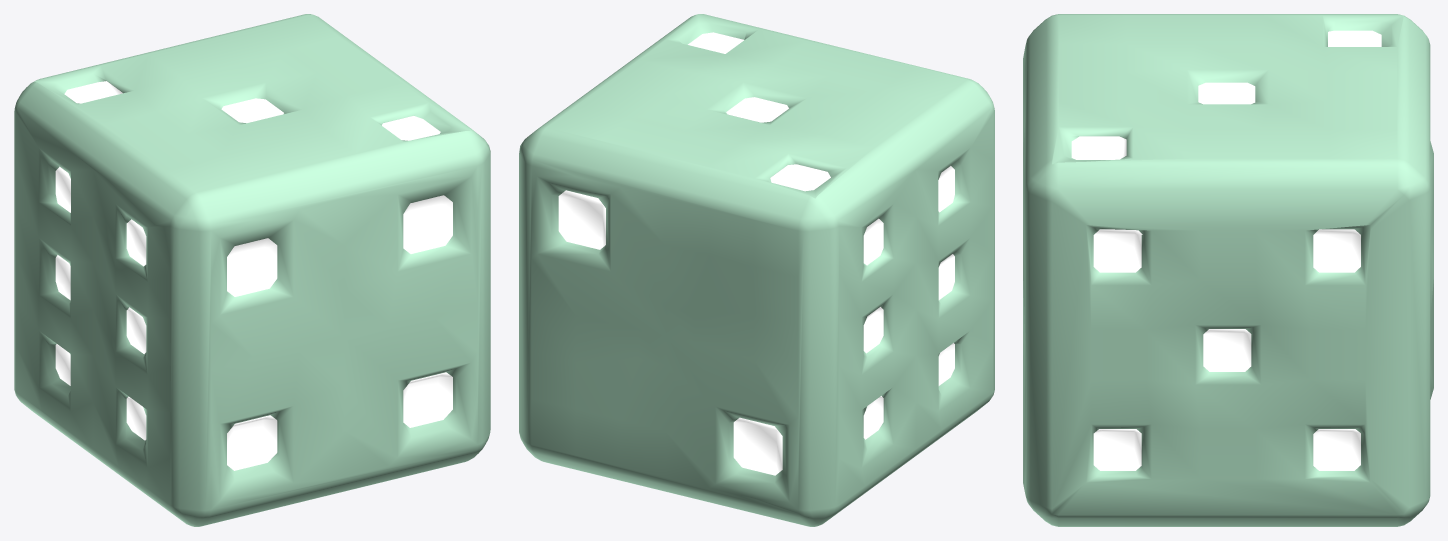
The model's file is dicemodel.glb.
3 views of the same model, side by side, from view 1: azimuth 30°, elevation 25°; view 2: azimuth 150°, elevation 25°; view 3: azimuth 270°, elevation 25° (orthographic). The views are drawn at different scales.
Visible parts, largest first — view 1: Cube; view 2: Cube; view 3: Cube.
Part boxes in pixels (x1,y1,x2,y2): Cube: (14, 14, 490, 526); Cube: (519, 14, 994, 526); Cube: (1023, 14, 1433, 526).
Size of the model in its own units: 0.9965 by 1.02 by 1.01.
